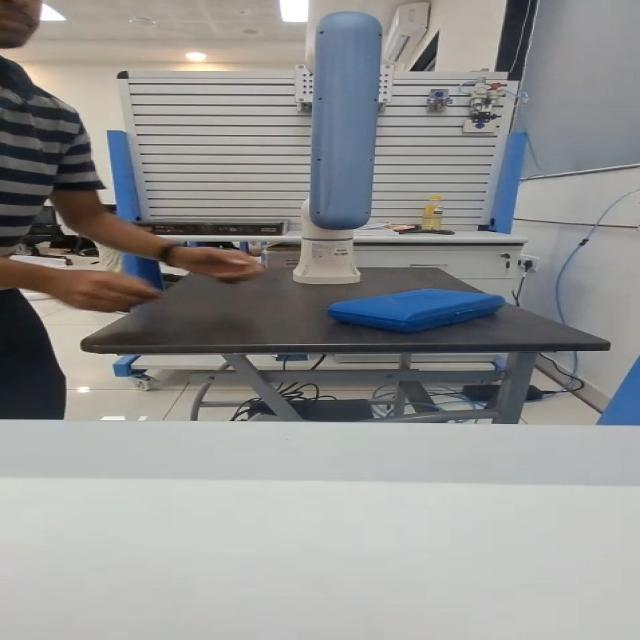top-surface: (364, 291, 473, 311)
